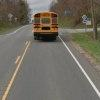Bus: (27, 8, 61, 45)
